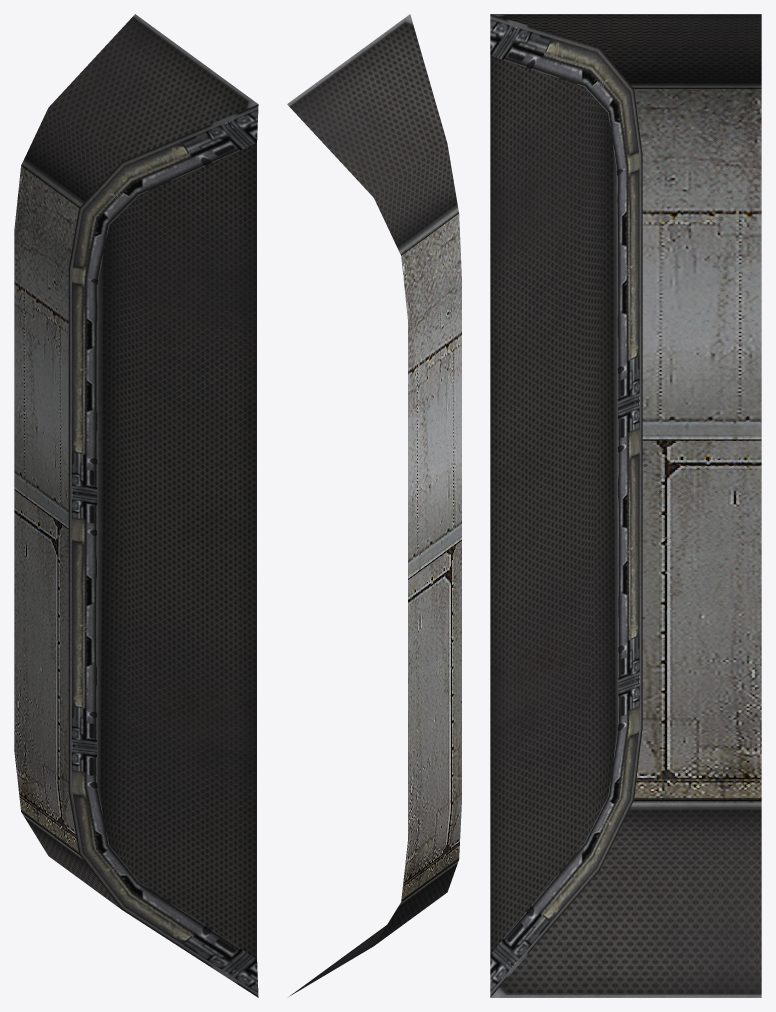
Rendered from Wall_B_Mid4mts_18.fbx.
The picture shows the model from 3 angles, left to right: view 1: azimuth 30°, elevation 25°; view 2: azimuth 150°, elevation 25°; view 3: azimuth 270°, elevation 25°; orthographic projection. The views are drawn at different scales.
Visible parts, largest first — view 1: Wall_B_Mid4mts_18; view 2: Wall_B_Mid4mts_18; view 3: Wall_B_Mid4mts_18.
Part boxes in pixels (x1,y1,x2,y2): Wall_B_Mid4mts_18: (14, 14, 258, 997); Wall_B_Mid4mts_18: (287, 14, 461, 996); Wall_B_Mid4mts_18: (490, 14, 761, 997).
Size of the model in its own units: 56.6 by 400 by 100.
Materials: 1 (1 with a texture image).
